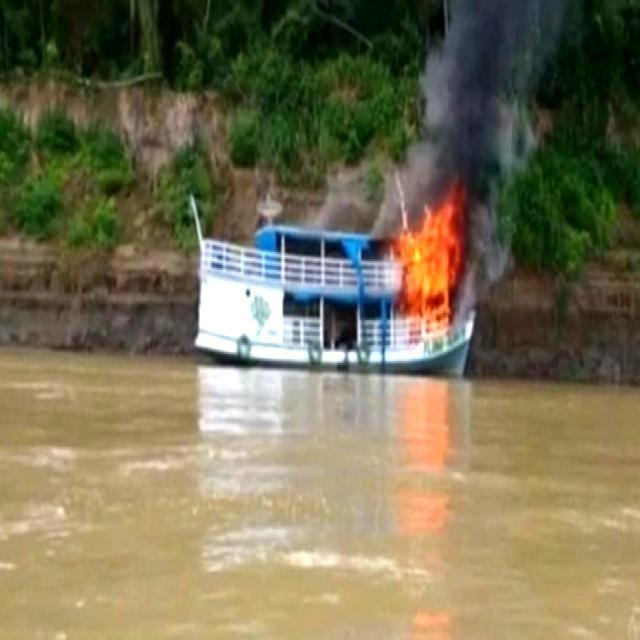Fire: (398, 194, 474, 320)
Smoke: (390, 0, 560, 226)
